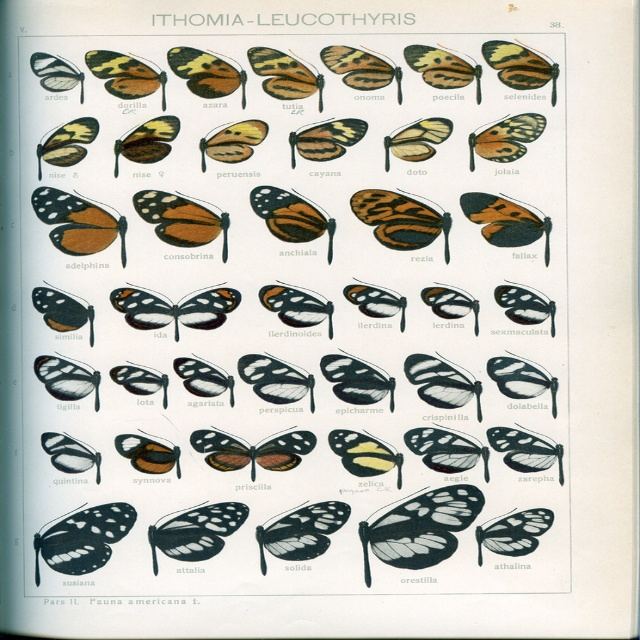Butterfly: (362, 484, 488, 587), (33, 498, 139, 586), (142, 498, 249, 575), (109, 280, 242, 341), (30, 187, 126, 271), (350, 190, 458, 264), (458, 192, 556, 270), (254, 498, 354, 574), (249, 183, 338, 264), (137, 189, 230, 264), (191, 427, 316, 478), (406, 351, 486, 422), (485, 36, 567, 105), (85, 49, 170, 113), (404, 422, 490, 483), (319, 43, 402, 105), (323, 428, 406, 487), (473, 508, 556, 567), (282, 116, 370, 171), (234, 351, 316, 410), (170, 45, 250, 105), (488, 350, 559, 417), (249, 47, 322, 112), (325, 347, 398, 412), (260, 282, 340, 339), (115, 113, 181, 182), (493, 423, 564, 487), (33, 281, 102, 346), (407, 43, 483, 102), (478, 100, 546, 164), (194, 116, 269, 173), (380, 117, 456, 171), (34, 116, 100, 178), (33, 350, 100, 411), (110, 427, 190, 478), (340, 275, 410, 332), (495, 278, 558, 337), (42, 428, 103, 486), (424, 280, 485, 338), (170, 353, 238, 405), (30, 52, 88, 107), (110, 361, 168, 411)
